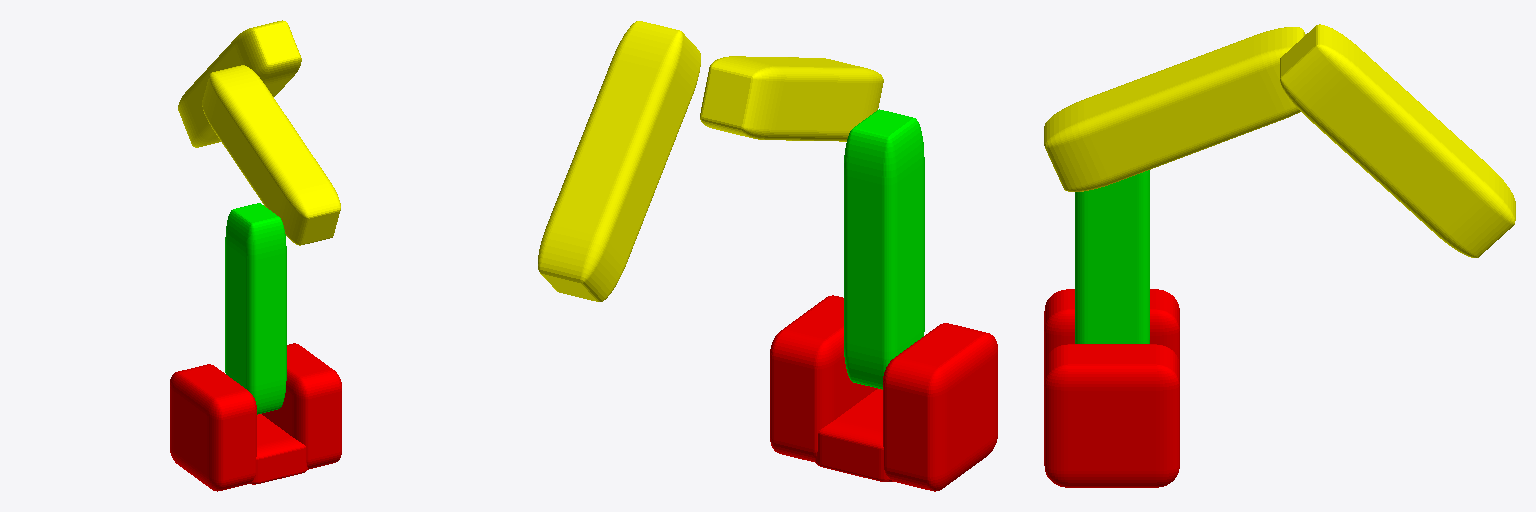
URDF robot description (tf_slider_robot):
<?xml version="1.0"?>
<robot name="tf_slider_robot">

  <!-- Définition des matériaux -->
  <material name="red">
    <color rgba="1 0 0 1"/>
  </material>
  <material name="green">
    <color rgba="0 1 0 1"/>
  </material>
  <material name="blue">
    <color rgba="0 0 1 1"/>
  </material>
  <material name="yellow">
    <color rgba="1 1 0 1"/>
  </material>
  <material name="purple">
    <color rgba="0.5 0 0.5 1"/>
  </material>

  <!-- Base link -->
  <link name="base_link">
    <visual>
      <geometry>
        <box size="0.2 0.2 0.2"/>
      </geometry>
      <material name="blue"/>
    </visual>
  </link>

  <!-- Link1 -->
  <link name="link1">
    <visual>
      <geometry>
        <mesh filename="package://tf_slider_demo/meshes/tinker.obj"/>
      </geometry>
      <material name="red"/>
    </visual>
  </link>

  <!-- Link2 -->
  <link name="link2">
    <visual>
      <geometry>
        <mesh filename="package://tf_slider_demo/meshes/tinker1.obj"/>
      </geometry>
      <material name="green"/>
    </visual>
  </link>

  <!-- Link3 -->
  <link name="link3">
    <visual>
      <geometry>
        <mesh filename="package://tf_slider_demo/meshes/tinker2.obj"/>
      </geometry>
          <origin xyz="0 0 -70" rpy="0 0 0"/>
      <material name="yellow"/>
    </visual>
  </link>

  <!-- Link4 -->
  <link name="link4">
    <visual>
      <geometry>
        <mesh filename="package://tf_slider_demo/meshes/tinker3.obj"/>
      </geometry>
          <origin xyz="0 -20 -90" rpy="0 0 0"/>
      <material name="yellow"/>
    </visual>
  </link>


  <!-- Joints fixes pour rattacher les links à la base -->
  <joint name="base_to_link1" type="continuous">
    <parent link="base_link"/>
    <child link="link1"/>
    <origin xyz="0 0 0" rpy="0 0 0"/>
    <axis xyz="0 0 1"/>
  </joint>

  <joint name="base_to_link2" type="continuous">
    <parent link="link1"/>
    <child link="link2"/>
    <origin xyz="0 0 0" rpy="0 0 0"/>
    <axis xyz="1 0 0"/>
  </joint>

  <joint name="base_to_link3" type="continuous">
    <parent link="link2"/>
    <child link="link3"/>
    <origin xyz="0 0 70" rpy="0 0 0"/>
  </joint>

<joint name="base_to_link4" type="continuous">
    <parent link="link3"/>
    <child link="link4"/>
    <origin xyz="0 30 20" rpy="0 0 0"/>
  </joint>

</robot>

--- What the picture shows (computed from the rendered views, not written in the file) ---
The picture shows the robot from 3 angles, left to right: view 1: azimuth 30°, elevation 25°; view 2: azimuth 150°, elevation 25°; view 3: azimuth 270°, elevation 25°; orthographic projection.
Model tf_slider_robot with 5 links and 4 joints (4 continuous), rooted at base_link, posed every joint at zero.
Links seen in each view (by area): view 1: link1, link3, link2, link4; view 2: link1, link4, link2, link3; view 3: link4, link1, link3, link2.
Boxes of the visible links, x1,y1,x2,y2 form: link1: (170, 343, 341, 491); link3: (202, 65, 340, 245); link2: (225, 203, 286, 414); link4: (178, 20, 301, 147); link1: (770, 295, 997, 491); link4: (538, 21, 700, 301); link2: (844, 109, 924, 389); link3: (700, 56, 883, 141); link4: (1280, 24, 1515, 257); link1: (1044, 289, 1179, 487); link3: (1044, 27, 1305, 191); link2: (1075, 170, 1149, 343).
Size in the robot's own frame: 55 by 94 by 105 metres.
Meshes: 4 distinct files referenced, 4 mesh visuals loaded (4 OBJ).
